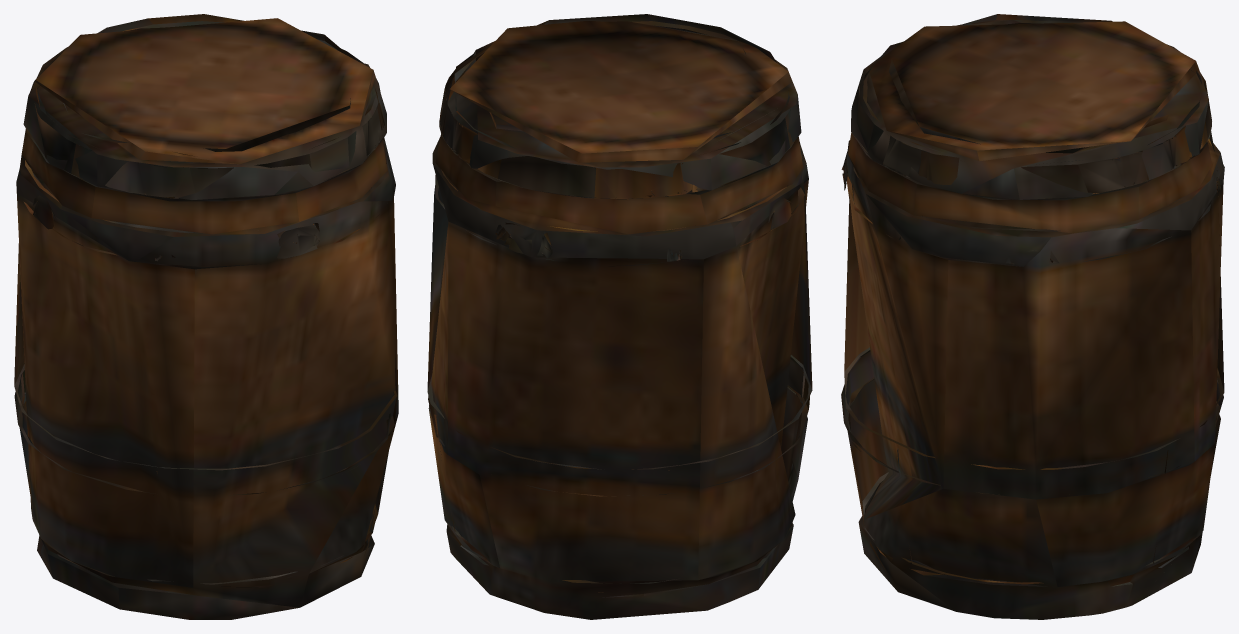
The model's file is barrel.glb.
The picture shows the model from 3 angles, left to right: view 1: azimuth 30°, elevation 25°; view 2: azimuth 150°, elevation 25°; view 3: azimuth 270°, elevation 25°; orthographic projection.
Parts seen in each view (by area): view 1: YVO3D.obj; view 2: YVO3D.obj; view 3: YVO3D.obj.
Boxes of the visible parts, left/top/right/bottom form: YVO3D.obj: left=14, top=14, right=398, bottom=619; YVO3D.obj: left=427, top=14, right=812, bottom=619; YVO3D.obj: left=841, top=14, right=1224, bottom=619.
Size of the model in its own units: 0.6805 by 0.9164 by 0.6812.
1 material, 1 textured.
